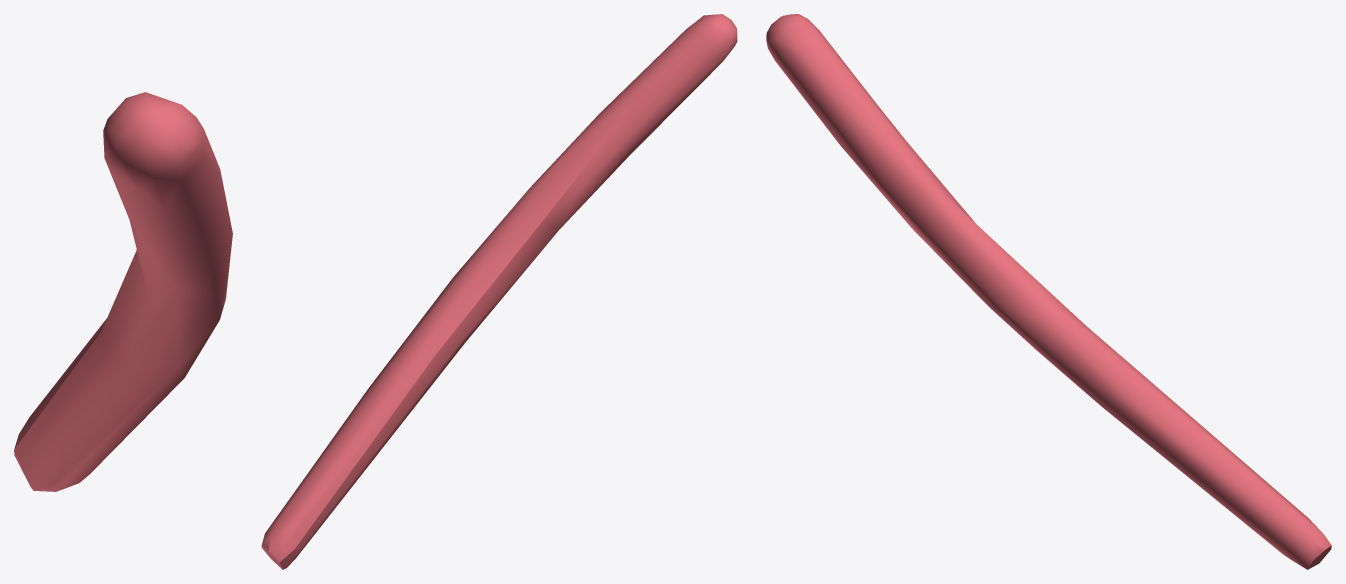
File: fma13292_fj6018.glb
The picture shows the model from 3 angles, left to right: view 1: azimuth 30°, elevation 25°; view 2: azimuth 150°, elevation 25°; view 3: azimuth 270°, elevation 25°; orthographic projection. The views are drawn at different scales.
Visible parts, largest first — view 1: FMA13292_FJ6018; view 2: FMA13292_FJ6018; view 3: FMA13292_FJ6018.
Boxes of the visible parts, box(x1,y1,x2,y2) form: FMA13292_FJ6018: box(14, 92, 232, 491); FMA13292_FJ6018: box(261, 14, 737, 569); FMA13292_FJ6018: box(766, 14, 1331, 569).
Bounding box in the file's own units: 0.0144 × 0.025 × 0.0285.
